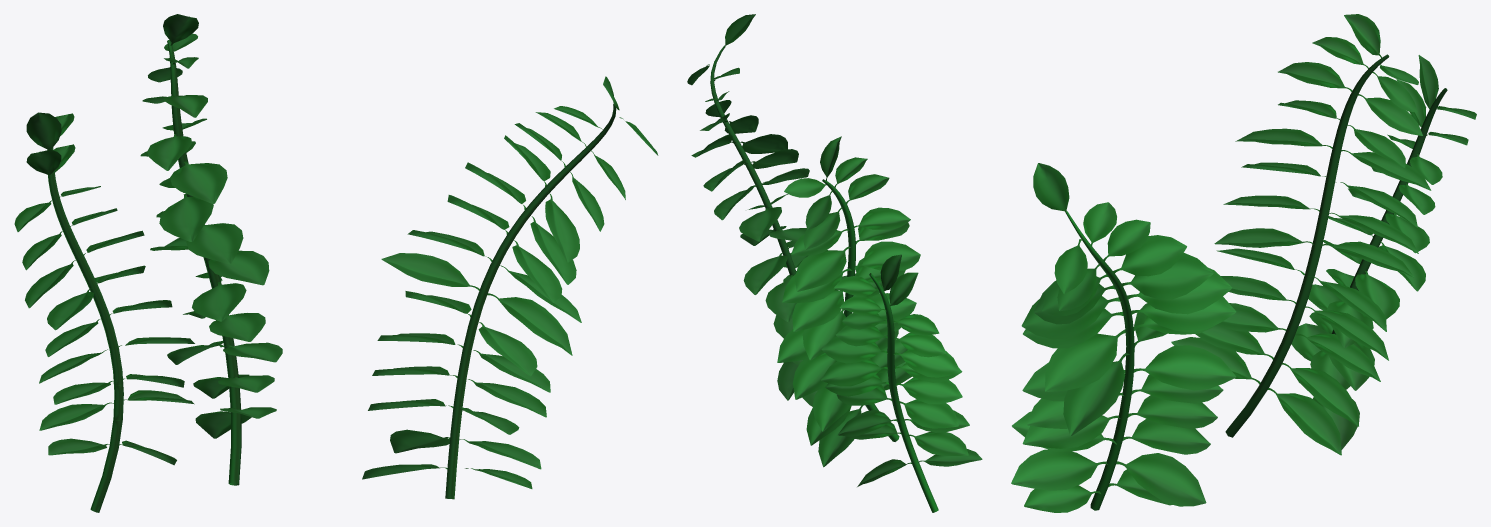
File: Plants_11.fbx
3 renders of one model, left to right at view 1: azimuth 30°, elevation 25°; view 2: azimuth 150°, elevation 25°; view 3: azimuth 270°, elevation 25°, orthographic. The views are drawn at different scales.
Parts seen in each view (by area): view 1: Plane.004; view 2: Plane.004; view 3: Plane.004.
Boxes of the visible parts, bbox=[...] form: Plane.004: bbox=[14, 14, 658, 512]; Plane.004: bbox=[687, 14, 982, 512]; Plane.004: bbox=[1011, 14, 1476, 512].
Size of the model in its own units: 4.27 by 3.84 by 3.51.
Materials: 1 (1 with a texture image).
